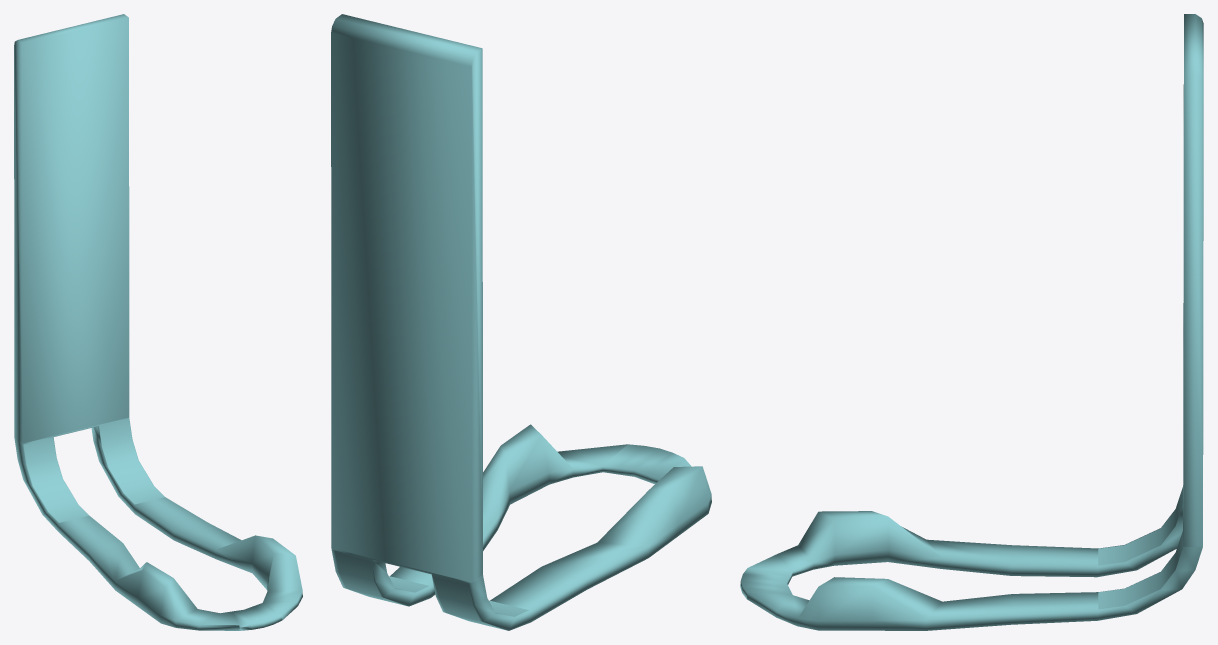
The model's file is chair_back_arm.fbx.
3 views of the same model, side by side, from view 1: azimuth 30°, elevation 25°; view 2: azimuth 150°, elevation 25°; view 3: azimuth 270°, elevation 25° (orthographic). The views are drawn at different scales.
Visible parts, largest first — view 1: back_chair_arm_center; view 2: back_chair_arm_center; view 3: back_chair_arm_center.
Boxes of the visible parts, x1,y1,x2,y2 form: back_chair_arm_center: (14, 14, 302, 630); back_chair_arm_center: (331, 14, 711, 630); back_chair_arm_center: (740, 14, 1203, 630).
Size of the model in its own units: 28.78 by 91.42 by 70.22.
